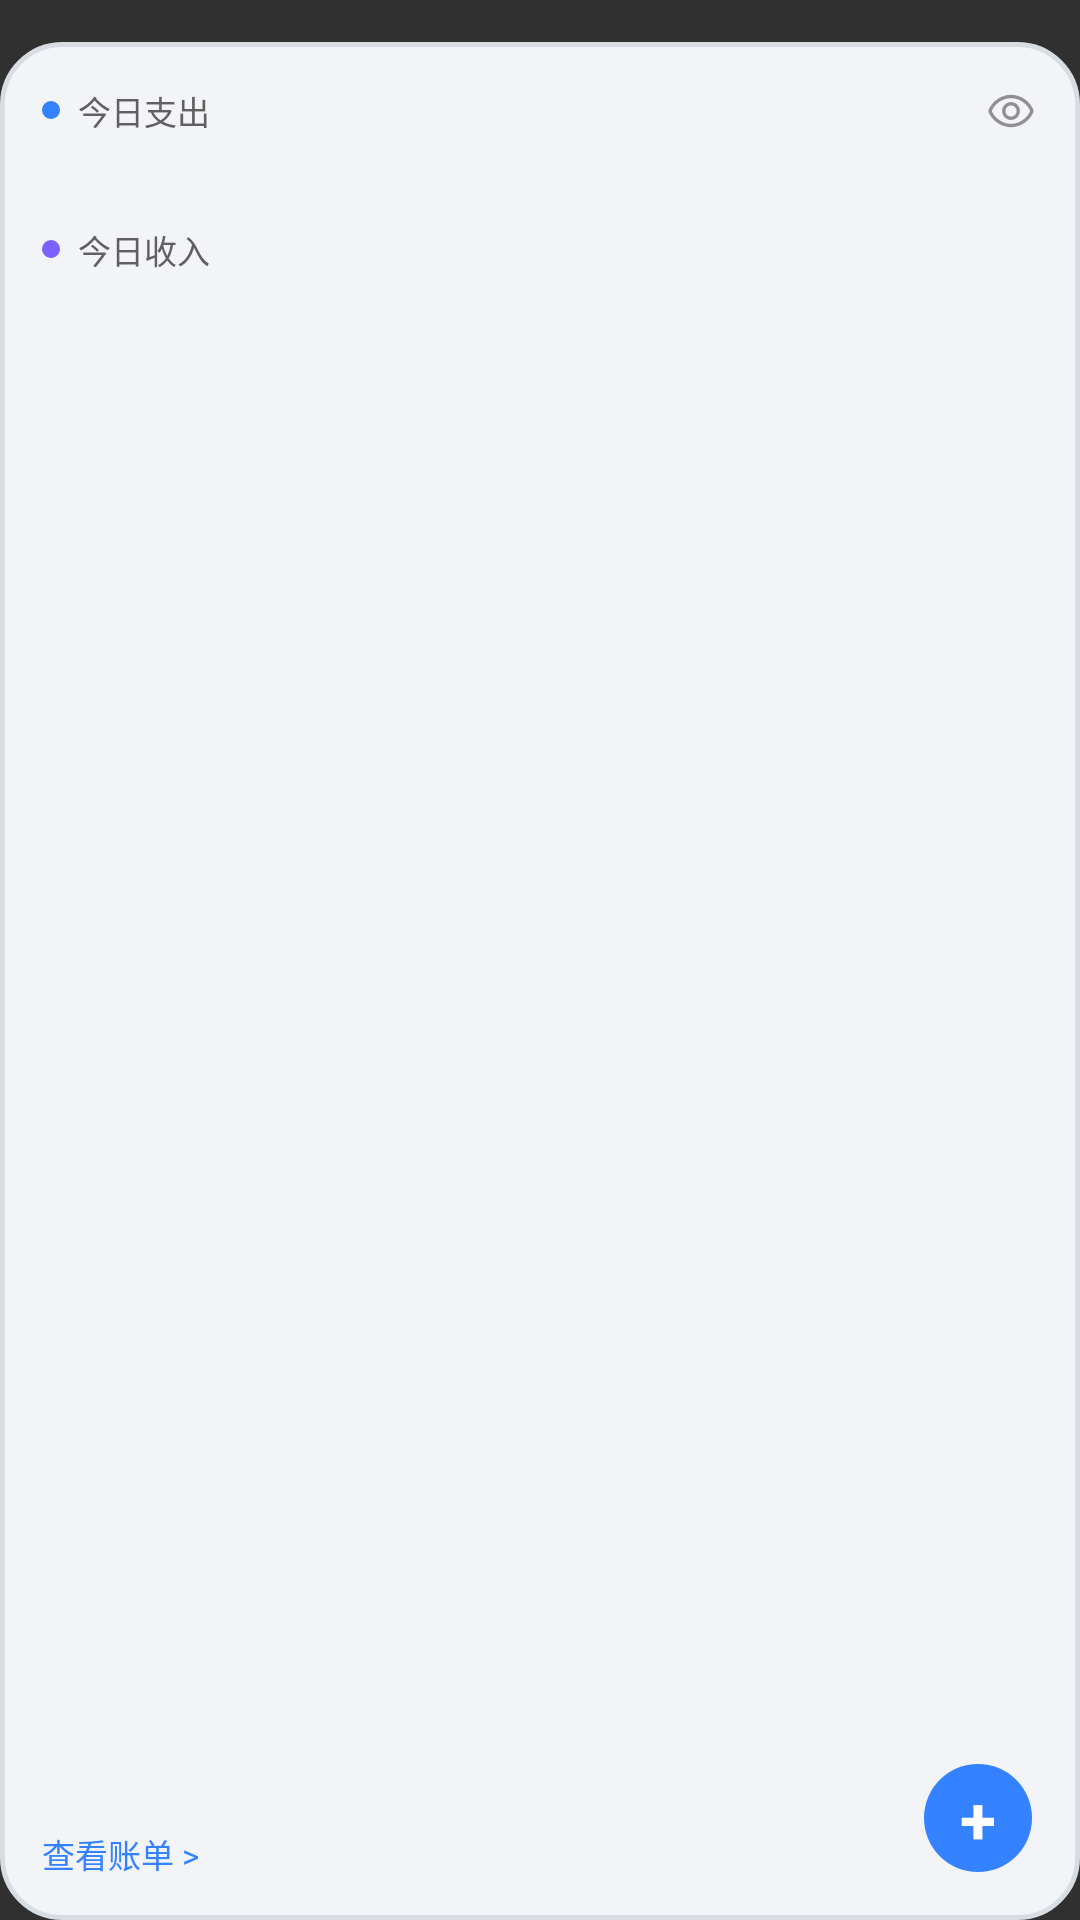

Icon bounding boxes for this 1080px×1920px phone screenshot, format (x1, y1, x2, y2):
隐藏内容: (988, 94, 1034, 128)
